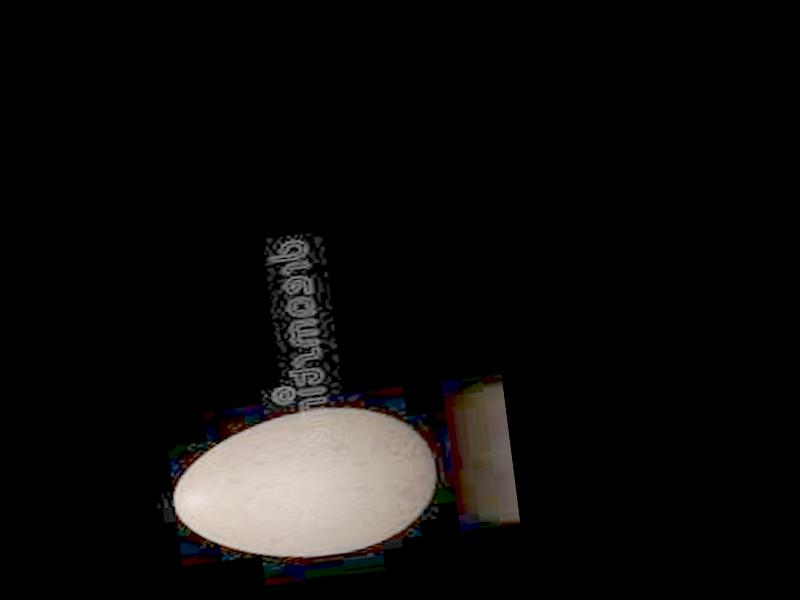Eggs: (163, 397, 444, 573)
